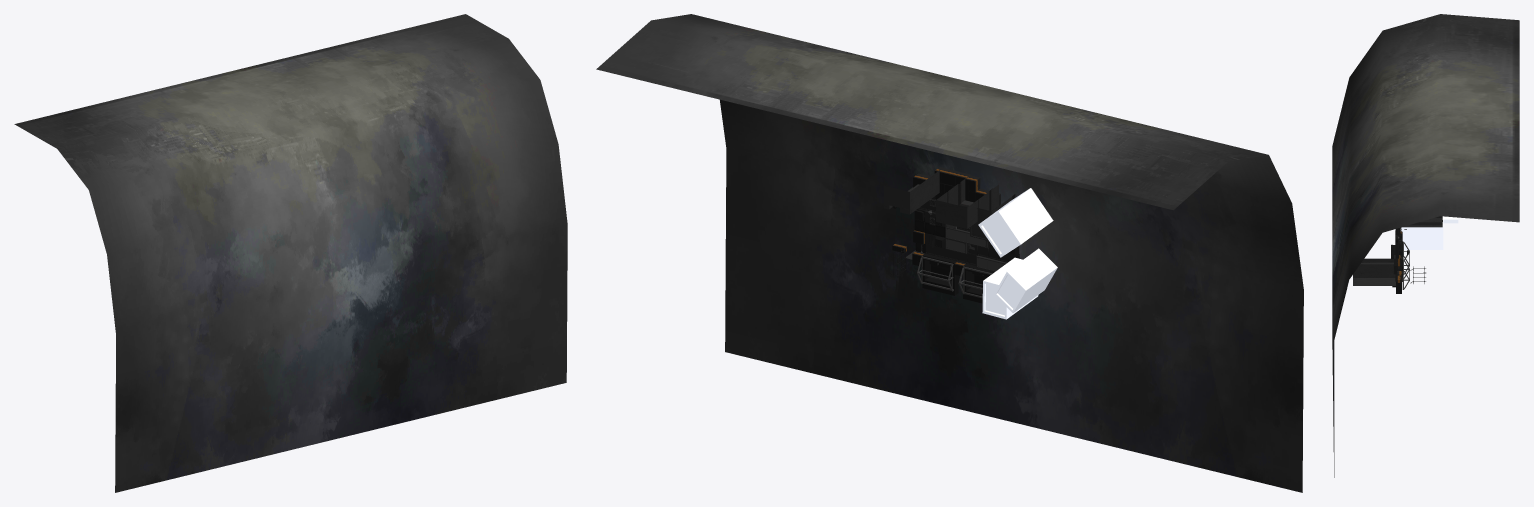
The model's file is BATTLE.fbx.
3 renders of one model, left to right at view 1: azimuth 30°, elevation 25°; view 2: azimuth 150°, elevation 25°; view 3: azimuth 270°, elevation 25°, orthographic. The views are drawn at different scales.
Parts seen in each view (by area): view 1: BG_Qcity; view 2: BG_Qcity, Shadow (1), Shadow (3), S_Outworld_prop_0374, S_Outworld_prop_015, OP_18, Shadow (4); view 3: BG_Qcity, S_Outworld_prop_0689, Shadow (4), S_Outworld_prop_015.
Part boxes in pixels (x1=…): BG_Qcity: x1=14, y1=14, x2=567, y2=492; BG_Qcity: x1=596, y1=14, x2=1303, y2=492; Shadow (1): x1=978, y1=188, x2=1053, y2=257; Shadow (3): x1=994, y1=248, x2=1057, y2=312; S_Outworld_prop_0374: x1=936, y1=177, x2=998, y2=228; S_Outworld_prop_015: x1=883, y1=170, x2=939, y2=214; OP_18: x1=922, y1=253, x2=959, y2=295; Shadow (4): x1=982, y1=257, x2=1038, y2=319; BG_Qcity: x1=1332, y1=14, x2=1519, y2=477; S_Outworld_prop_0689: x1=1353, y1=258, x2=1395, y2=285; Shadow (4): x1=1400, y1=219, x2=1443, y2=249; S_Outworld_prop_015: x1=1402, y1=216, x2=1442, y2=227.
Bounding box in the file's own units: 0.5573 × 0.3558 × 0.2179.
